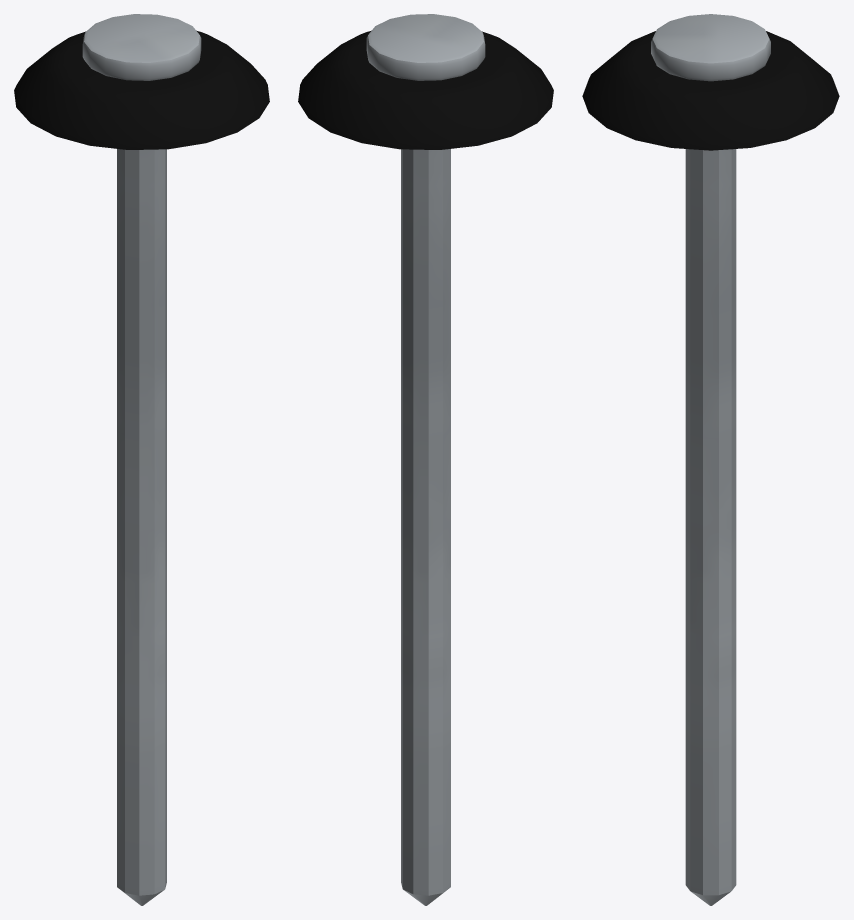
The model's file is COB-ACS-004.glb.
3 renders of one model, left to right at view 1: azimuth 30°, elevation 25°; view 2: azimuth 150°, elevation 25°; view 3: azimuth 270°, elevation 25°, orthographic.
Visible parts, largest first — view 1: COB-ACS-004_haste, COB-ACS-004_arruela, COB-ACS-004_cabeca; view 2: COB-ACS-004_haste, COB-ACS-004_arruela, COB-ACS-004_cabeca; view 3: COB-ACS-004_haste, COB-ACS-004_arruela, COB-ACS-004_cabeca.
Boxes of the visible parts, x1=… form: COB-ACS-004_haste: x1=117, y1=149, x2=166, y2=895; COB-ACS-004_arruela: x1=14, y1=30, x2=269, y2=149; COB-ACS-004_cabeca: x1=82, y1=14, x2=201, y2=80; COB-ACS-004_haste: x1=401, y1=149, x2=450, y2=895; COB-ACS-004_arruela: x1=298, y1=30, x2=553, y2=149; COB-ACS-004_cabeca: x1=366, y1=14, x2=485, y2=80; COB-ACS-004_haste: x1=685, y1=149, x2=736, y2=895; COB-ACS-004_arruela: x1=582, y1=31, x2=839, y2=150; COB-ACS-004_cabeca: x1=651, y1=14, x2=770, y2=81.
Bounding box in the file's own units: 0.0172 × 0.064 × 0.0172.
2 materials, 2 textured.
